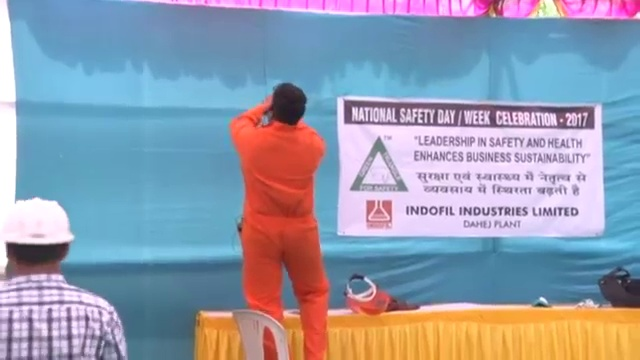helmet: (1, 195, 75, 247)
helmet_off: (271, 81, 308, 126)
helmet_on: (2, 195, 73, 288)
person: (230, 80, 333, 360), (1, 192, 127, 360)
